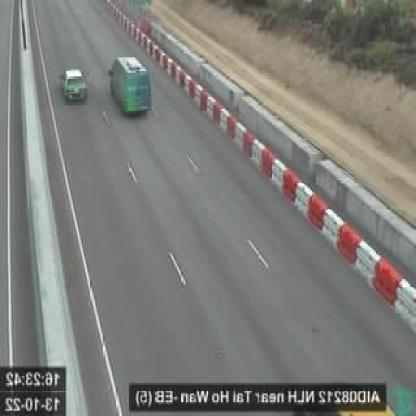Car: (60, 66, 86, 102)
Truck: (108, 56, 152, 116)
